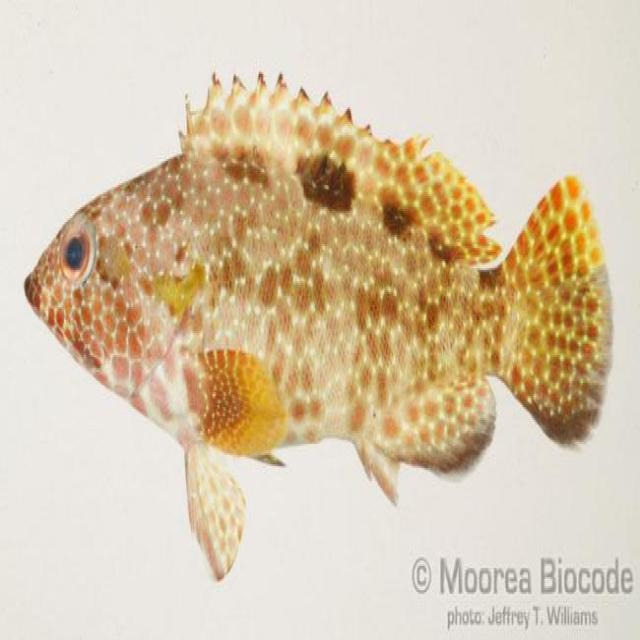ikan: (22, 67, 614, 582)
